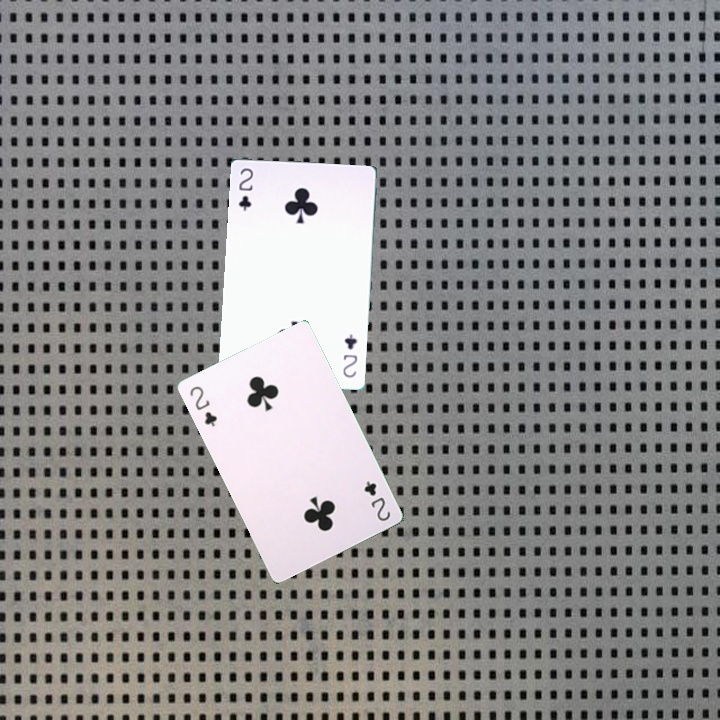2c: (185, 382, 220, 429), (360, 476, 393, 524), (339, 330, 360, 380), (235, 164, 256, 213)
